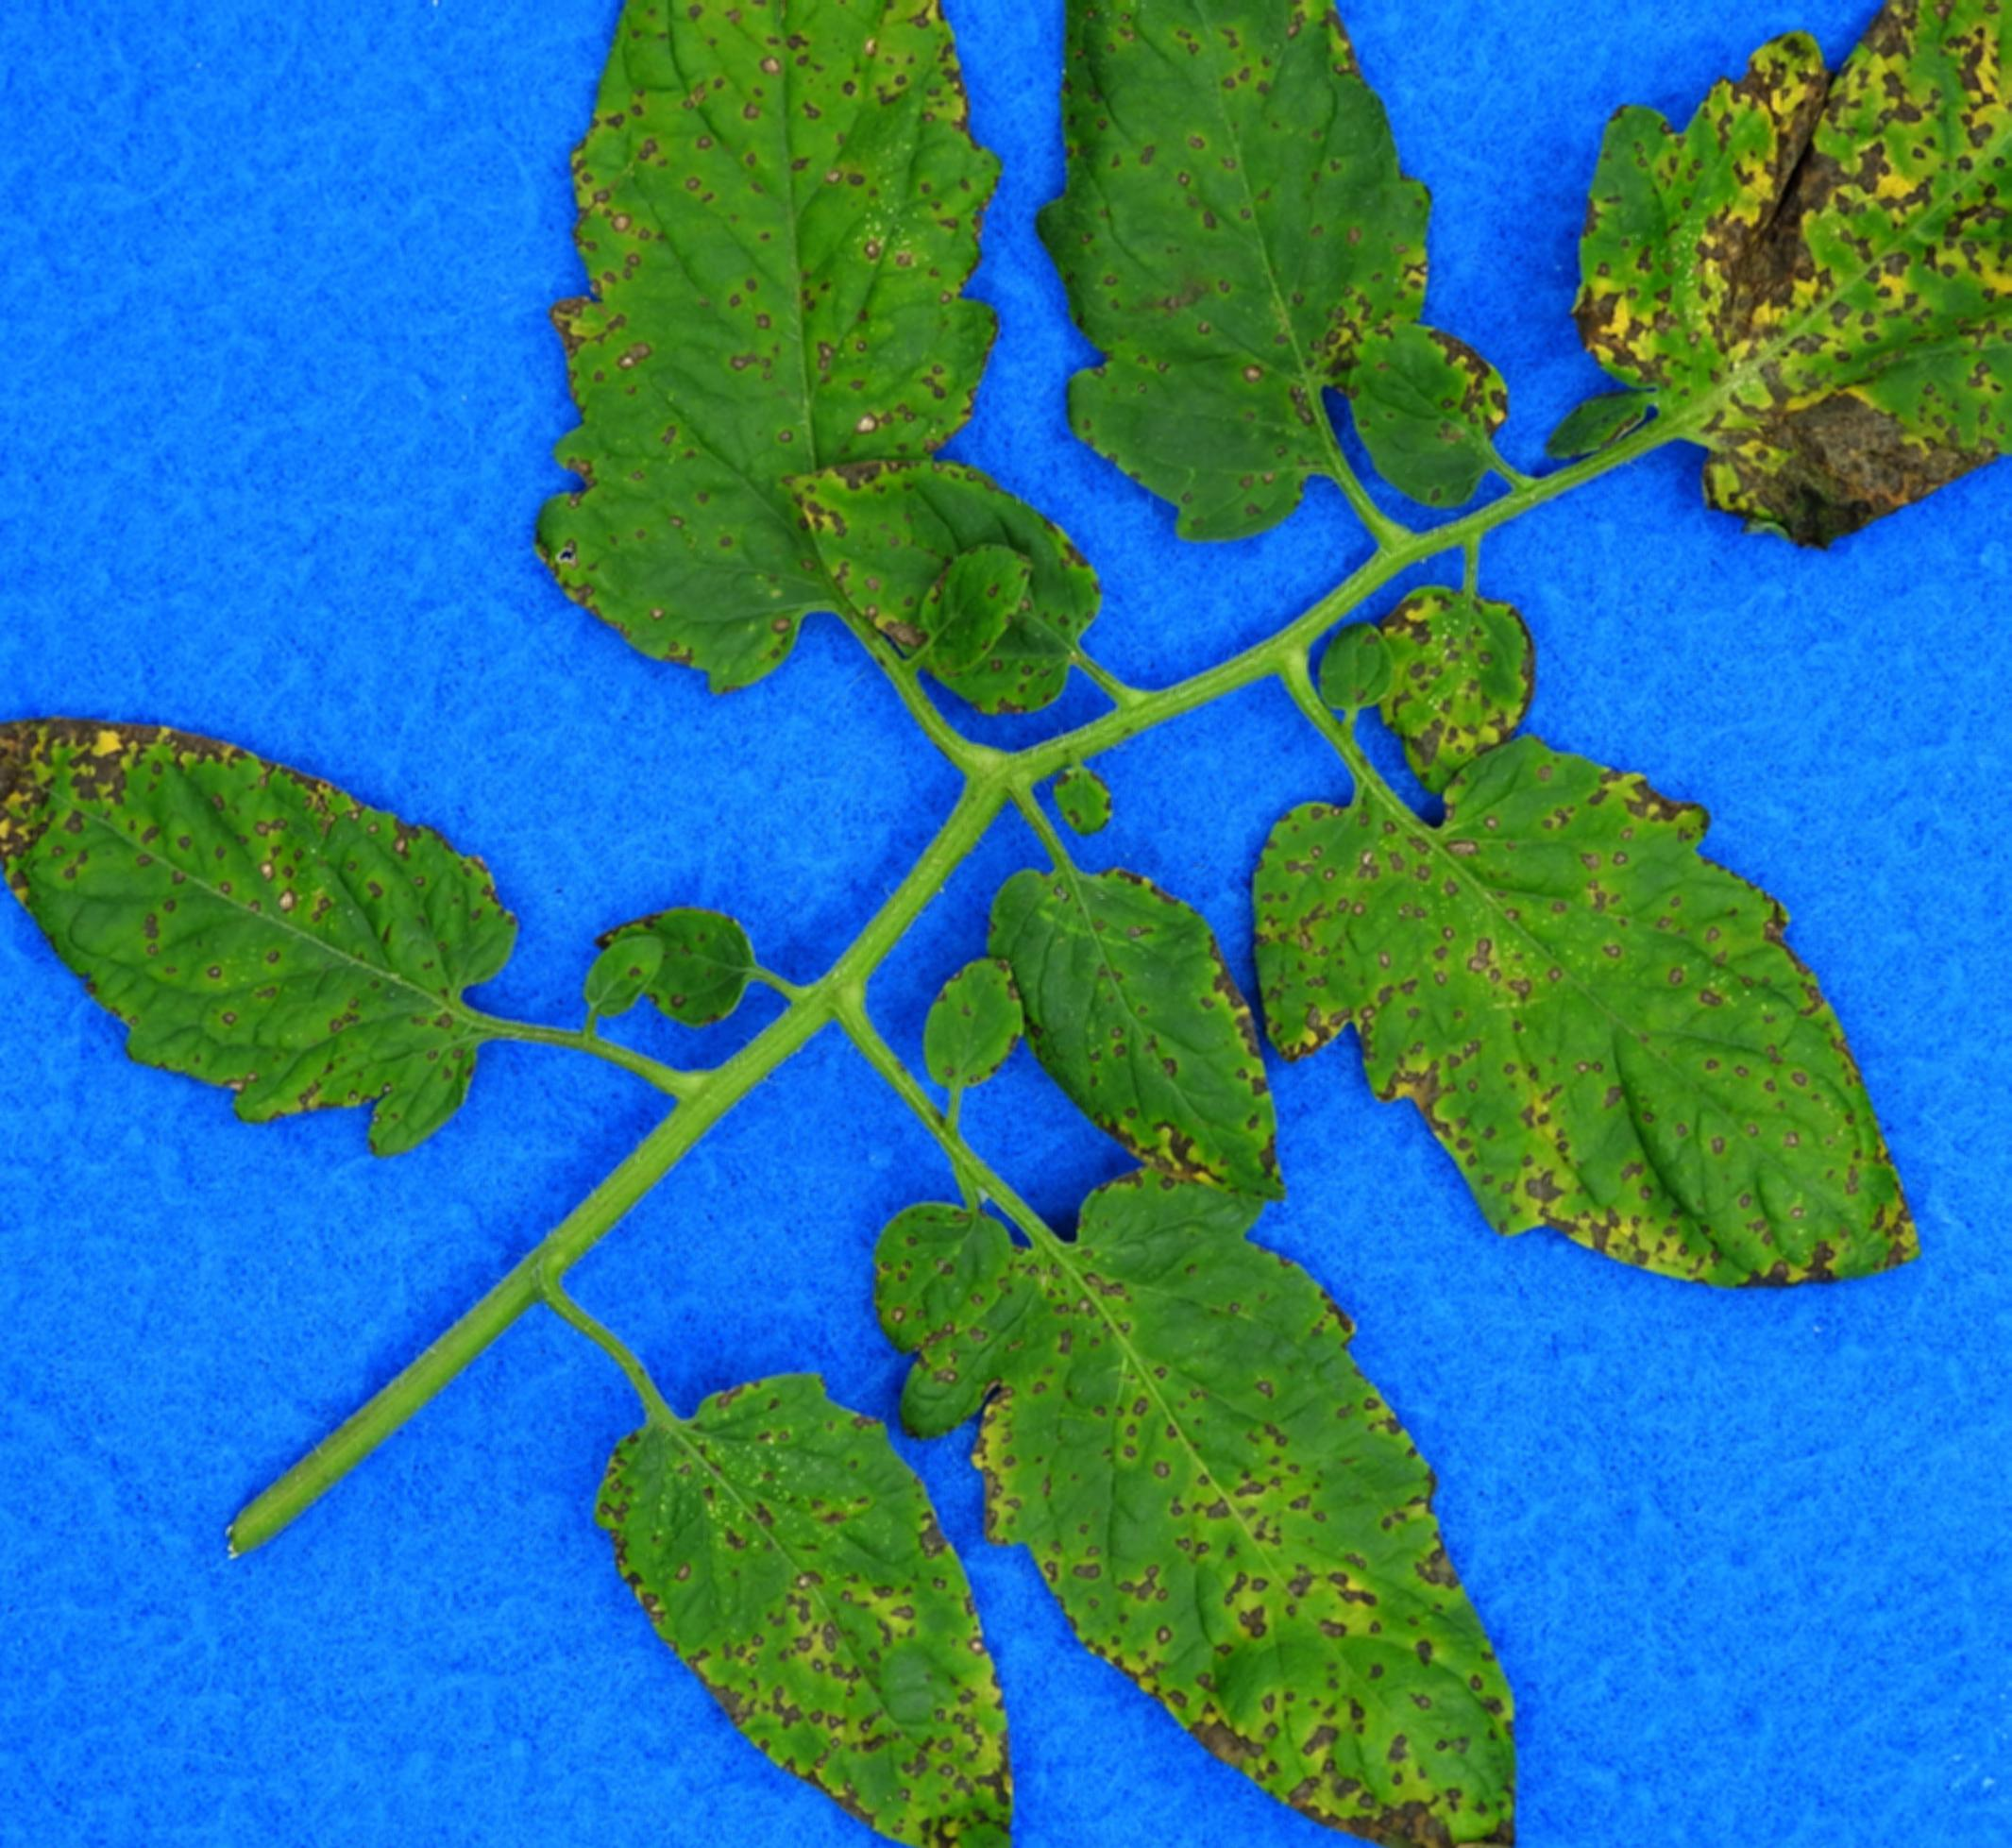Tomato Septoria leaf spot: (911, 1124, 1525, 1848), (529, 0, 1032, 817), (1246, 726, 1919, 1311), (1001, 0, 1577, 549), (0, 652, 531, 1191), (1549, 0, 2012, 591), (580, 1333, 1041, 1848), (992, 845, 1300, 1201), (782, 442, 1153, 722)
